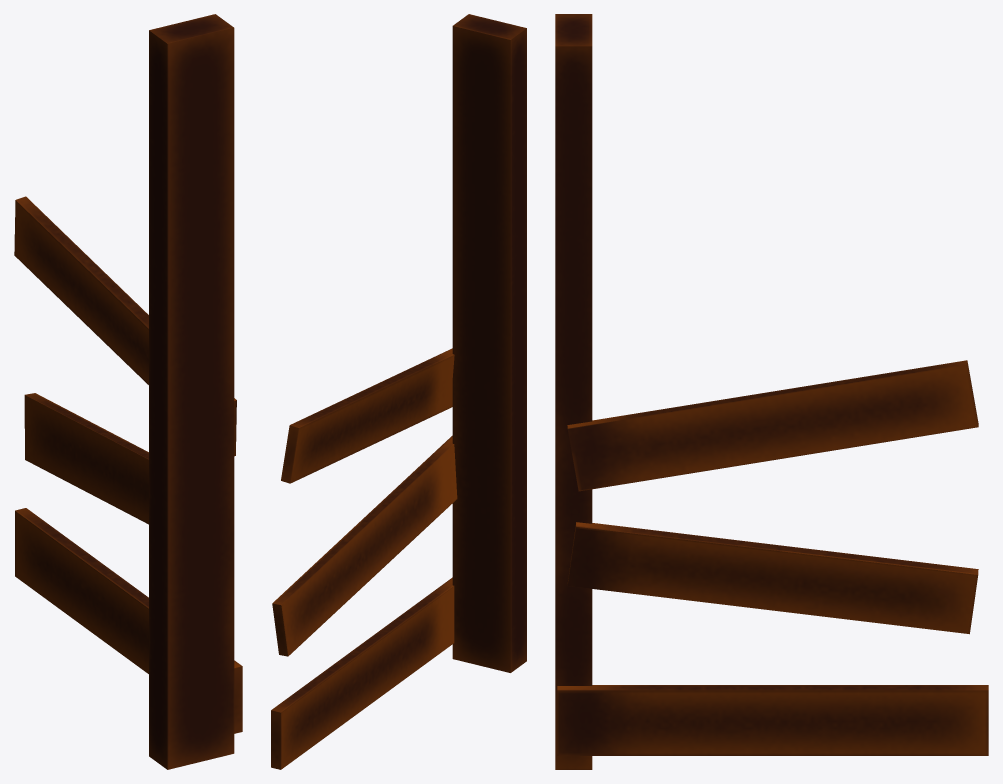
Rendered from Maderia_Entrada.003.fbx.
3 views of the same model, side by side, from view 1: azimuth 30°, elevation 25°; view 2: azimuth 150°, elevation 25°; view 3: azimuth 270°, elevation 25° (orthographic). The views are drawn at different scales.
Visible parts, largest first — view 1: Maderia_Entrada.003; view 2: Maderia_Entrada.003; view 3: Maderia_Entrada.003.
Boxes of the visible parts, bbox=[...] form: Maderia_Entrada.003: bbox=[14, 14, 242, 769]; Maderia_Entrada.003: bbox=[271, 14, 526, 769]; Maderia_Entrada.003: bbox=[555, 14, 988, 769].
Bounding box in the file's own units: 93.18 × 807 × 438.
